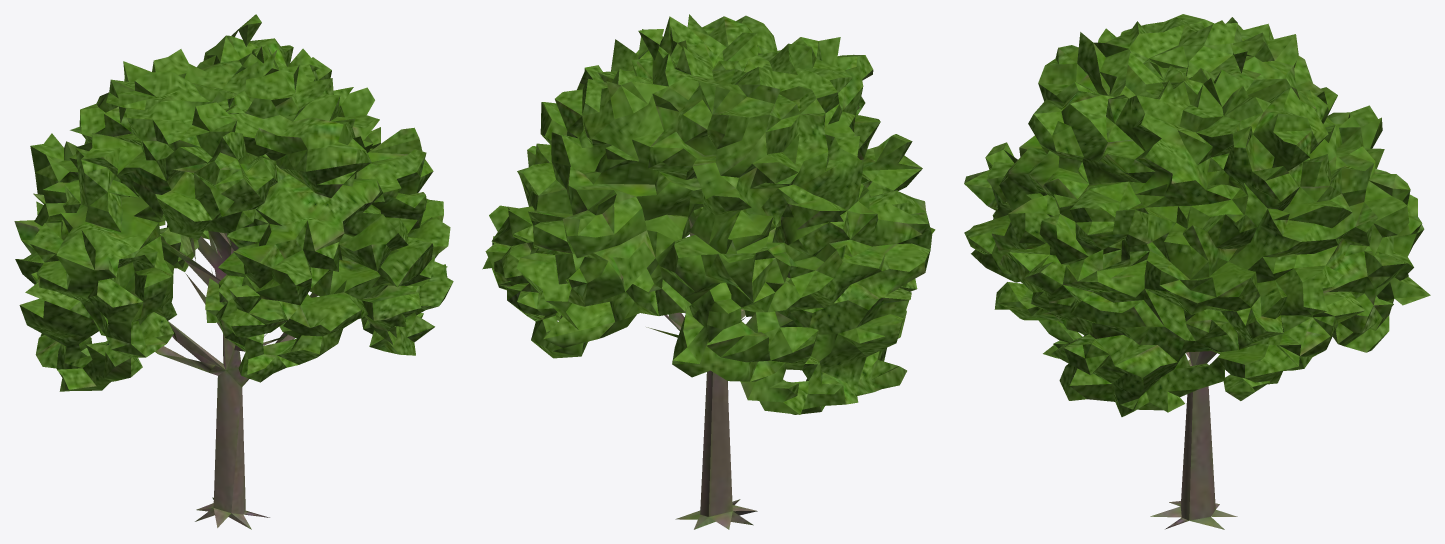
Rendered from p-tree.glb.
The picture shows the model from 3 angles, left to right: view 1: azimuth 30°, elevation 25°; view 2: azimuth 150°, elevation 25°; view 3: azimuth 270°, elevation 25°; orthographic projection. The views are drawn at different scales.
Size of the model in its own units: 1.59 by 1.85 by 1.59.
1 material, 1 textured.
